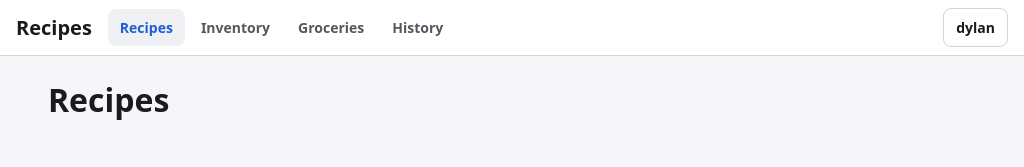
Test: AppShell › cycles the theme from the user menu
The width and height of the screenshot is (1024, 167).
Click the button "dylan" at [976, 28], box [943, 8, 1008, 47]
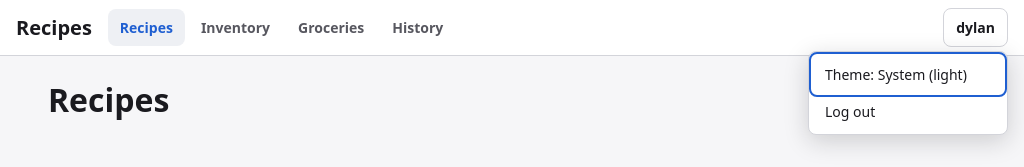
Click the button "Theme: System (light)" at [908, 74], box [813, 56, 1003, 93]
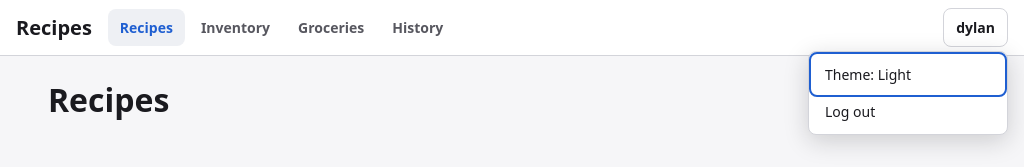
Click the button "Theme: Light" at [908, 74], box [813, 56, 1003, 93]
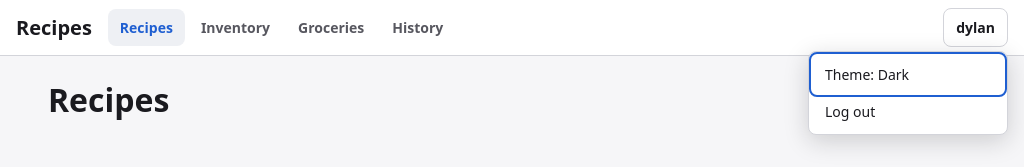
Expected: the button "Theme: Dark" is shown, [813, 56, 1003, 93]
